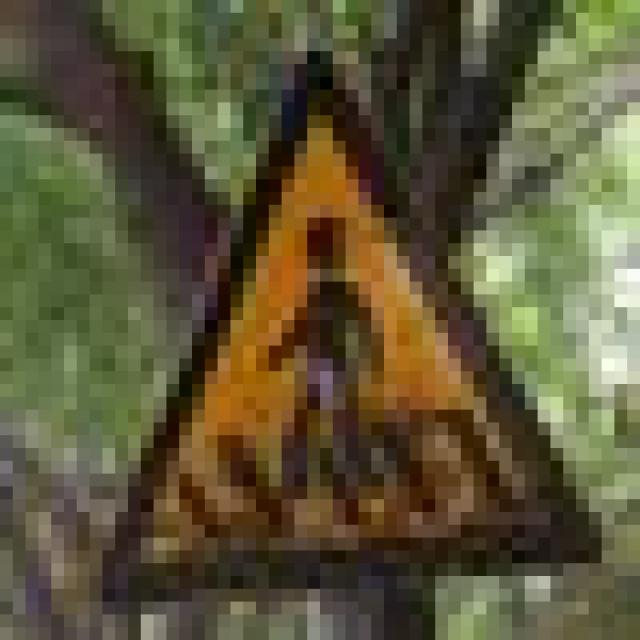PEDESTRIAN_CROSSING: (89, 38, 602, 576)
